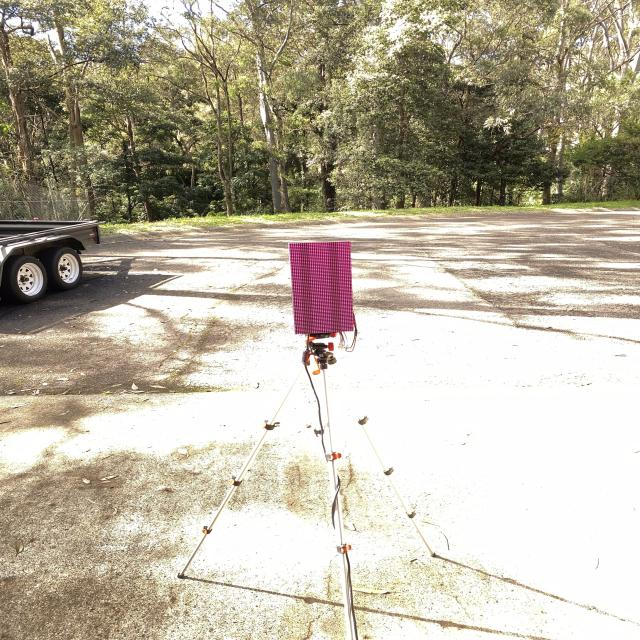matrix: (286, 238, 361, 339)
